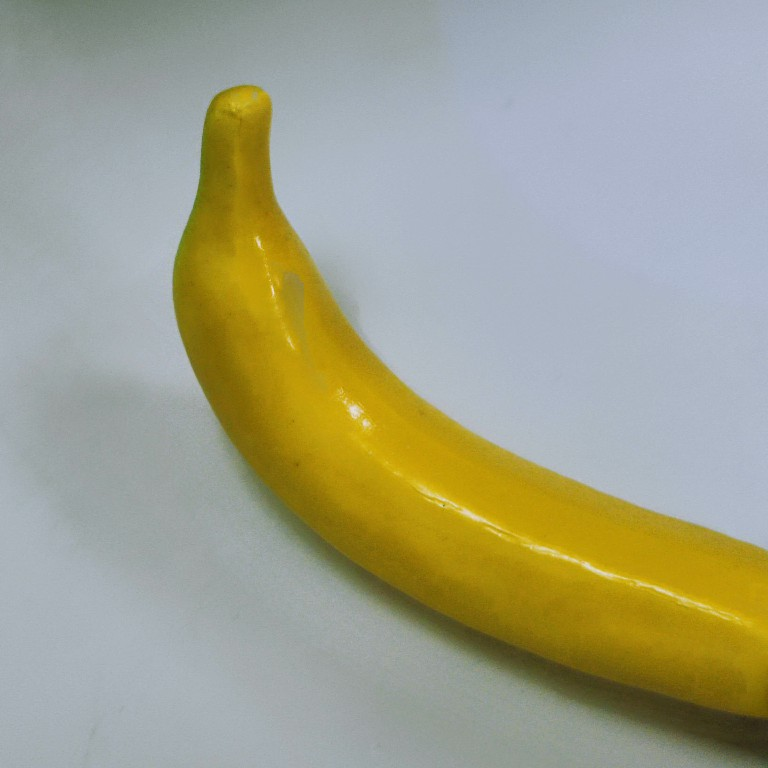fruit_banana: (164, 83, 768, 735)
